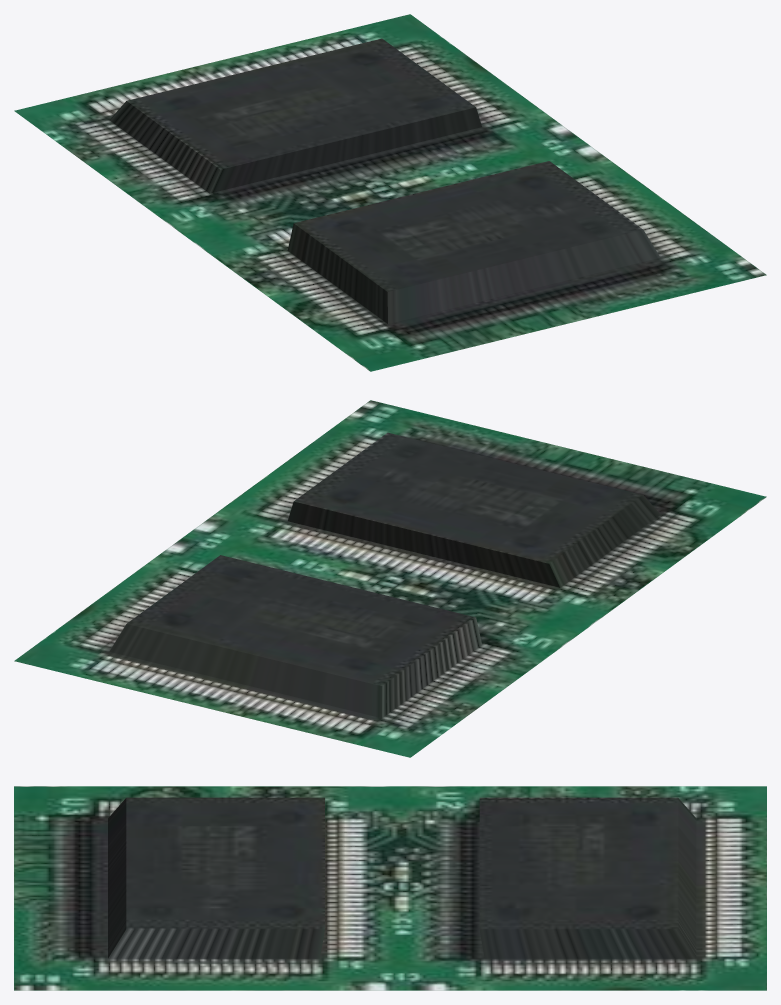
The model's file is Cache.fbx.
3 renders of one model, top to bottom at view 1: azimuth 30°, elevation 25°; view 2: azimuth 150°, elevation 25°; view 3: azimuth 270°, elevation 25°, orthographic. The views are drawn at different scales.
Parts seen in each view (by area): view 1: Plane; view 2: Plane; view 3: Plane.
Part boxes in pixels (x1,y1,x2,y2): Plane: (14,14,766,371); Plane: (14,400,766,757); Plane: (14,786,766,990).
Size of the model in its own units: 200 by 11.38 by 312.
Materials: 1 (1 with a texture image).
